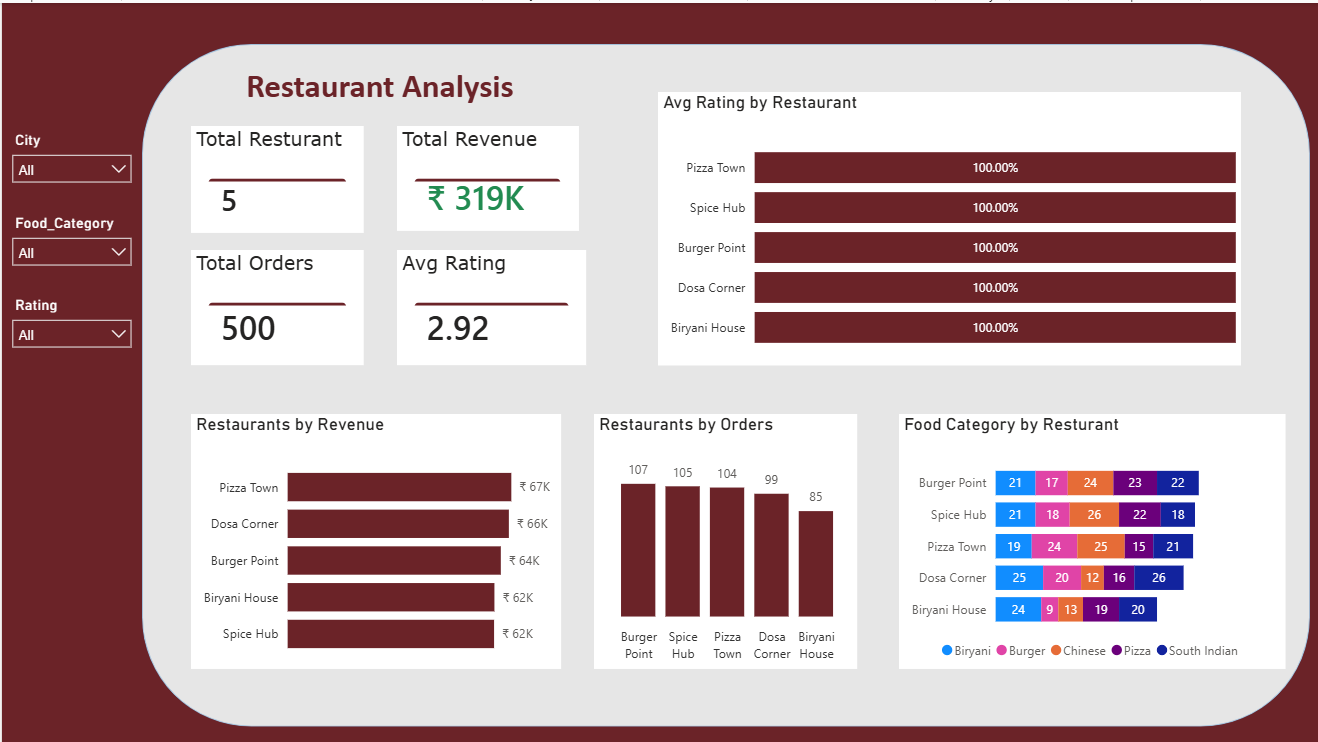

Layout of this report page (visuals, bound fields, positions):
{"tool":"powerbi","page":{"name":"Restaurant Analysis","canvas":[1280,720],"ordinal":1},"visuals":[{"type":"shape","box":[136,40,1136,664],"z":0},{"type":"cardVisual","title":"Total Resturant","fields":{"Data":["Sheet.Total Resturant"]},"box":[184,120,168,104],"z":1000},{"type":"textbox","box":[232,56,312,80],"z":2000},{"type":"cardVisual","title":"Total Revenue","fields":{"Data":["Sheet.Total Revenue"]},"box":[384,120,176.8,101.6],"z":3000},{"type":"cardVisual","title":"Avg Rating","fields":{"Data":["Sheet.Avg Rating"]},"box":[384,240,184,112],"z":4000},{"type":"cardVisual","title":"Total Orders","fields":{"Data":["CountNonNull(Sheet.Order_ID)"]},"box":[184,240,168,112],"z":5000},{"type":"clusteredBarChart","title":"Restaurants by Revenue","fields":{"Category":["Sheet.Restaurant"],"Y":["Sheet.Total Revenue"]},"box":[184,400,360,248],"z":6000},{"type":"clusteredColumnChart","title":"Restaurants by Orders","fields":{"Category":["Sheet.Restaurant"],"Y":["CountNonNull(Sheet.Order_ID)"]},"box":[576,400,256,248],"z":7000},{"type":"hundredPercentStackedBarChart","fields":{"Category":["Sheet.Restaurant"],"Y":["Sheet.Avg Rating"]},"box":[638.3,86.9,567.4,265.6],"z":8000},{"type":"barChart","title":"Food Category by Resturant","fields":{"Series":["Sheet.Food_Category"],"Category":["Sheet.Restaurant"],"Y":["CountNonNull(Sheet.Order_ID)"]},"box":[872,400,376,248],"z":9000},{"type":"slicer","fields":{"Values":["Sheet.City"]},"box":[0,120,136,64],"z":10000},{"type":"slicer","fields":{"Values":["Sheet.Food_Category"]},"box":[0,200,136,64],"z":11000},{"type":"slicer","fields":{"Values":["Sheet.Rating"]},"box":[0,280,136,64],"z":12000}]}

Visuals, with their boxes in screenshot pixels (x1, y1, x2, y2), scaled from the page's 1280x720 canvas onto the 1318x742 screenshot:
shape: BBox(140, 41, 1310, 726)
"Total Resturant" cardVisual: BBox(189, 124, 362, 231)
textbox: BBox(239, 58, 560, 140)
"Total Revenue" cardVisual: BBox(395, 124, 577, 228)
"Avg Rating" cardVisual: BBox(395, 247, 585, 363)
"Total Orders" cardVisual: BBox(189, 247, 362, 363)
"Restaurants by Revenue" clusteredBarChart: BBox(189, 412, 560, 668)
"Restaurants by Orders" clusteredColumnChart: BBox(593, 412, 857, 668)
hundredPercentStackedBarChart - Sheet.Restaurant x Sheet.Avg Rating: BBox(657, 90, 1241, 363)
"Food Category by Resturant" barChart: BBox(898, 412, 1285, 668)
slicer - Sheet.City: BBox(0, 124, 140, 190)
slicer - Sheet.Food_Category: BBox(0, 206, 140, 272)
slicer - Sheet.Rating: BBox(0, 289, 140, 355)
